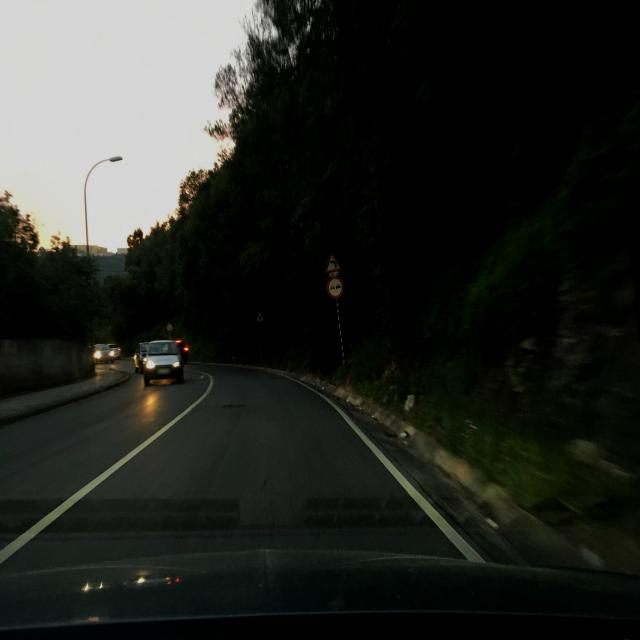car: (143, 339, 184, 386), (134, 341, 150, 374), (92, 344, 114, 364), (173, 339, 189, 364), (108, 343, 121, 360)
